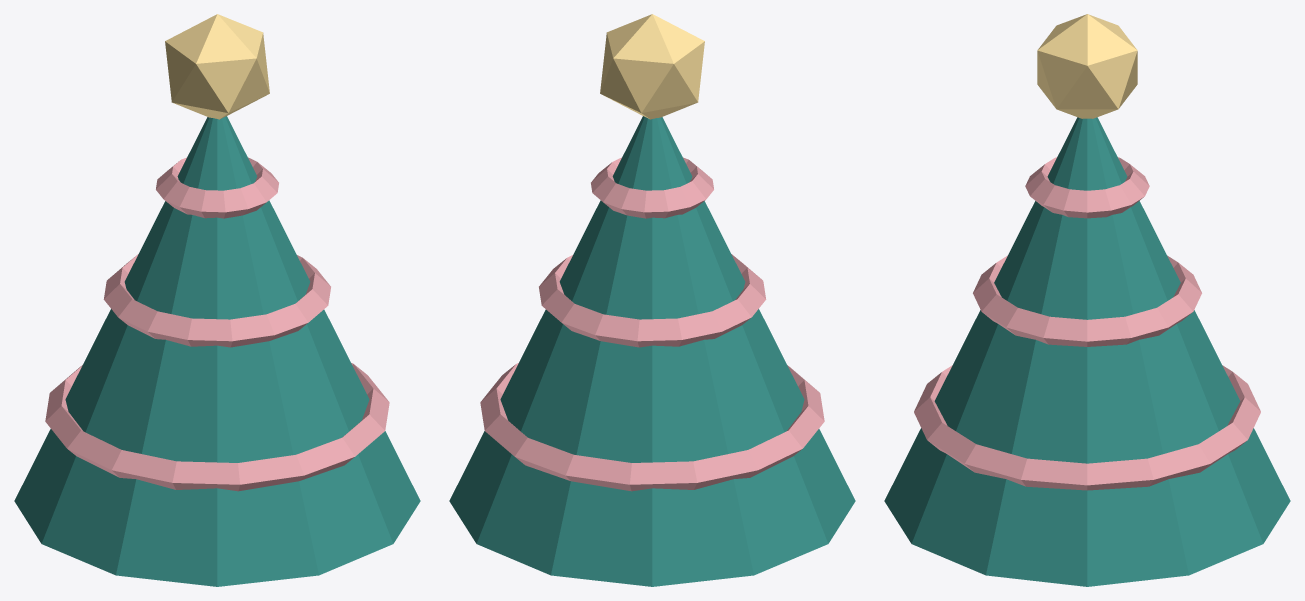
Rendered from hat_party.glb.
The picture shows the model from 3 angles, left to right: view 1: azimuth 30°, elevation 25°; view 2: azimuth 150°, elevation 25°; view 3: azimuth 270°, elevation 25°; orthographic projection.
Parts seen in each view (by area): view 1: party_hat, stripe, pom, stripe.001, stripe.002; view 2: party_hat, stripe, pom, stripe.001, stripe.002; view 3: party_hat, stripe, pom, stripe.001, stripe.002.
Part boxes in pixels (box(x1,y1,x2,y2)): party_hat: box(14, 116, 420, 586); stripe: box(45, 363, 389, 491); pom: box(165, 14, 269, 119); stripe.001: box(103, 254, 330, 347); stripe.002: box(156, 157, 278, 218); party_hat: box(449, 116, 855, 586); stripe: box(480, 363, 824, 491); pom: box(600, 14, 704, 119); stripe.001: box(539, 254, 766, 347); stripe.002: box(591, 157, 713, 218); party_hat: box(884, 117, 1290, 586); stripe: box(914, 365, 1260, 490); pom: box(1037, 14, 1137, 118); stripe.001: box(973, 255, 1201, 346); stripe.002: box(1025, 157, 1149, 218).
Bounding box in the file's own units: 0.62 × 0.82 × 0.62.
